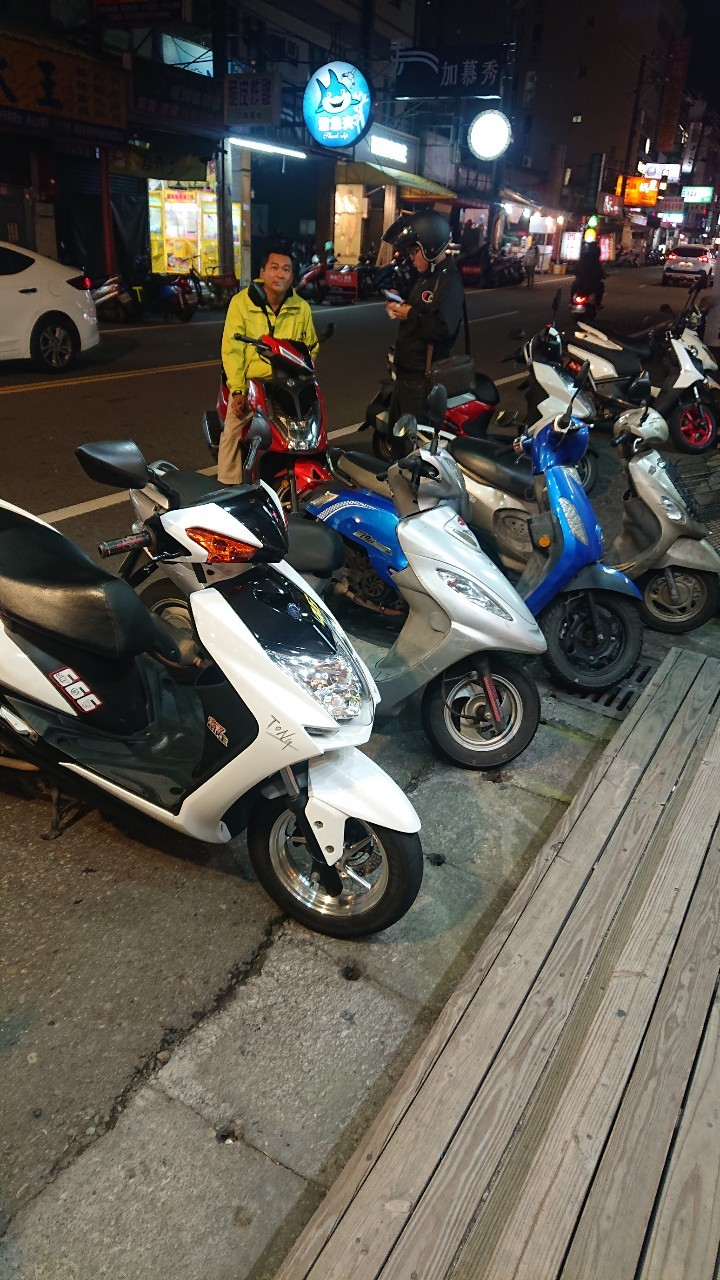people: (385, 212, 469, 408), (220, 247, 318, 396), (569, 243, 605, 292)
